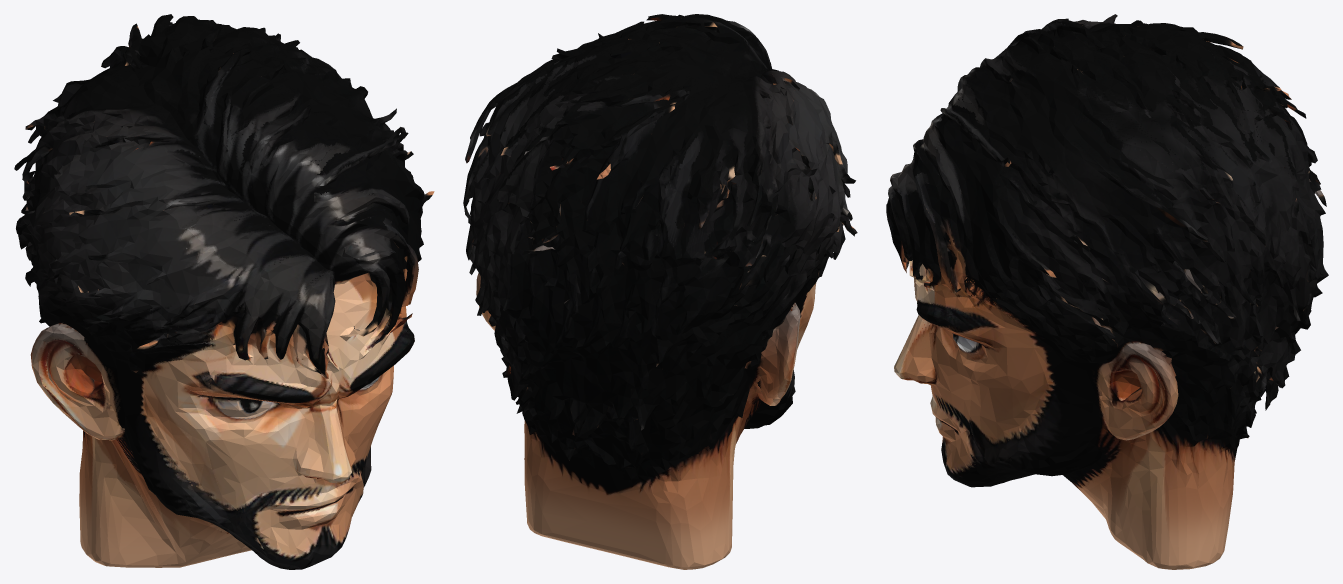
File: side_gaijintrader_repaired_atlas.glb
The picture shows the model from 3 angles, left to right: view 1: azimuth 30°, elevation 25°; view 2: azimuth 150°, elevation 25°; view 3: azimuth 270°, elevation 25°; orthographic projection. The views are drawn at different scales.
Parts seen in each view (by area): view 1: temp_mesh.ply; view 2: temp_mesh.ply; view 3: temp_mesh.ply.
Boxes of the visible parts, <box> form: temp_mesh.ply: <box>14,14,434,569</box>; temp_mesh.ply: <box>463,14,857,569</box>; temp_mesh.ply: <box>886,14,1328,569</box>.
Bounding box in the file's own units: 0.8742 × 1.21 × 0.9762.
Materials: 1 (1 with a texture image).
